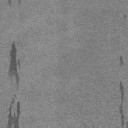red iron: (8, 42, 20, 85), (119, 82, 128, 128), (7, 98, 20, 128), (120, 56, 124, 66), (8, 0, 11, 5)
